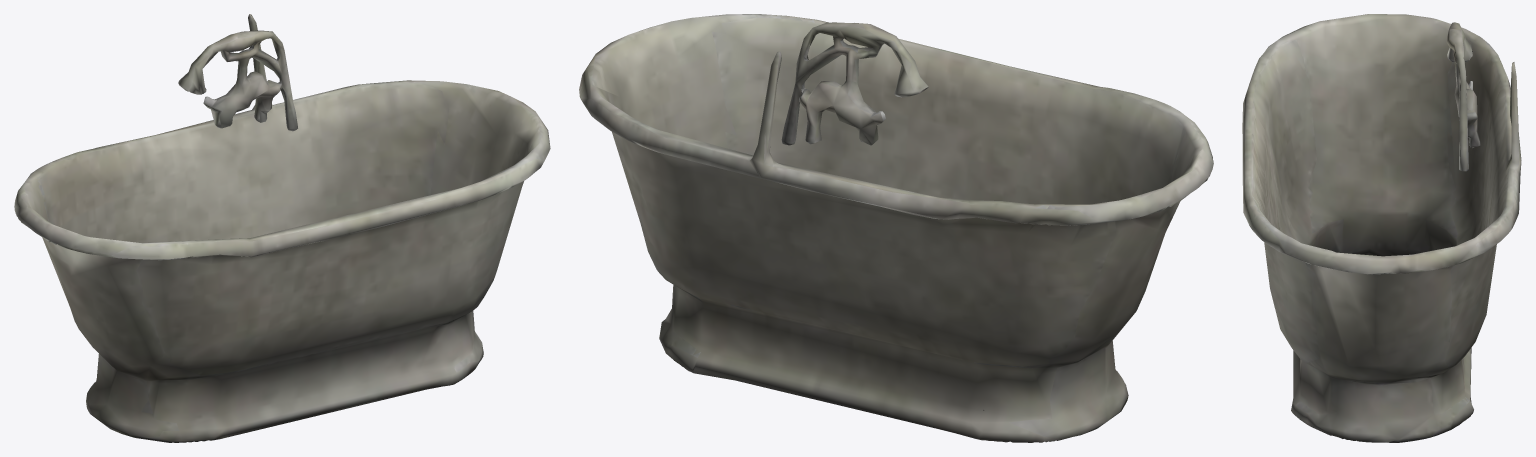
File: simple-white-painted-bathtub-v002.glb
3 views of the same model, side by side, from view 1: azimuth 30°, elevation 25°; view 2: azimuth 150°, elevation 25°; view 3: azimuth 270°, elevation 25° (orthographic). The views are drawn at different scales.
Visible parts, largest first — view 1: simple-white-painted-bathtub; view 2: simple-white-painted-bathtub; view 3: simple-white-painted-bathtub.
Part boxes in pixels (<box>): simple-white-painted-bathtub: <box>14,14,550,442</box>; simple-white-painted-bathtub: <box>579,14,1213,442</box>; simple-white-painted-bathtub: <box>1242,14,1521,442</box>.
Size of the model in its own units: 0.9771 by 0.6002 by 0.4749.
Materials: 1 (1 with a texture image).
